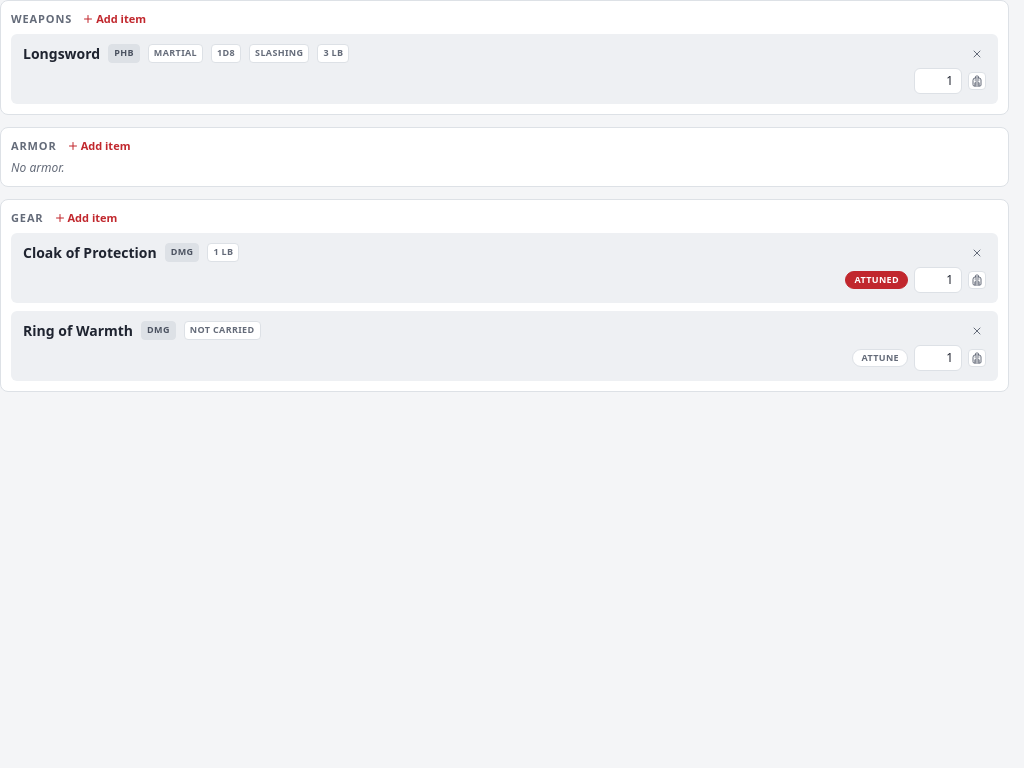
Test: ItemList › adds a magic variant as the pair it names, once its base item is picked
Check: the button "Longsword" is shown, box [23,44,100,64]
Click the button with aria-label "Add item to Weapons".
click(114, 19)  # box [78,7,150,32]
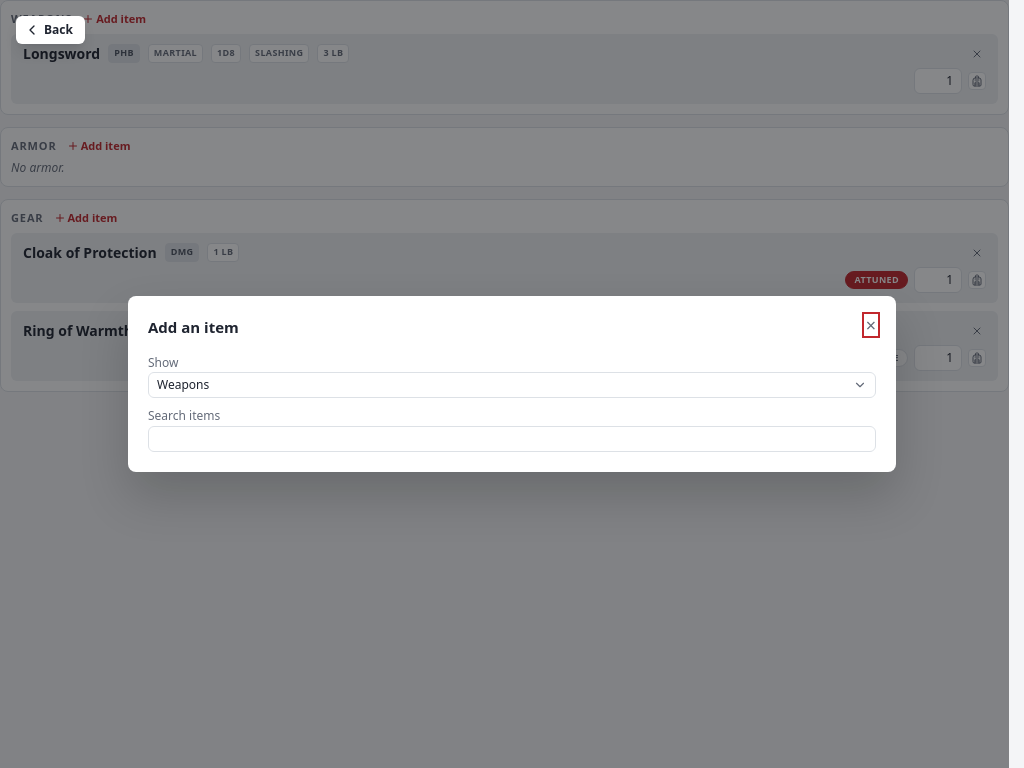
Type "+1" into the dropdown labelled "Search items".
click(512, 439); type("+1")  # box [148,426,876,452]
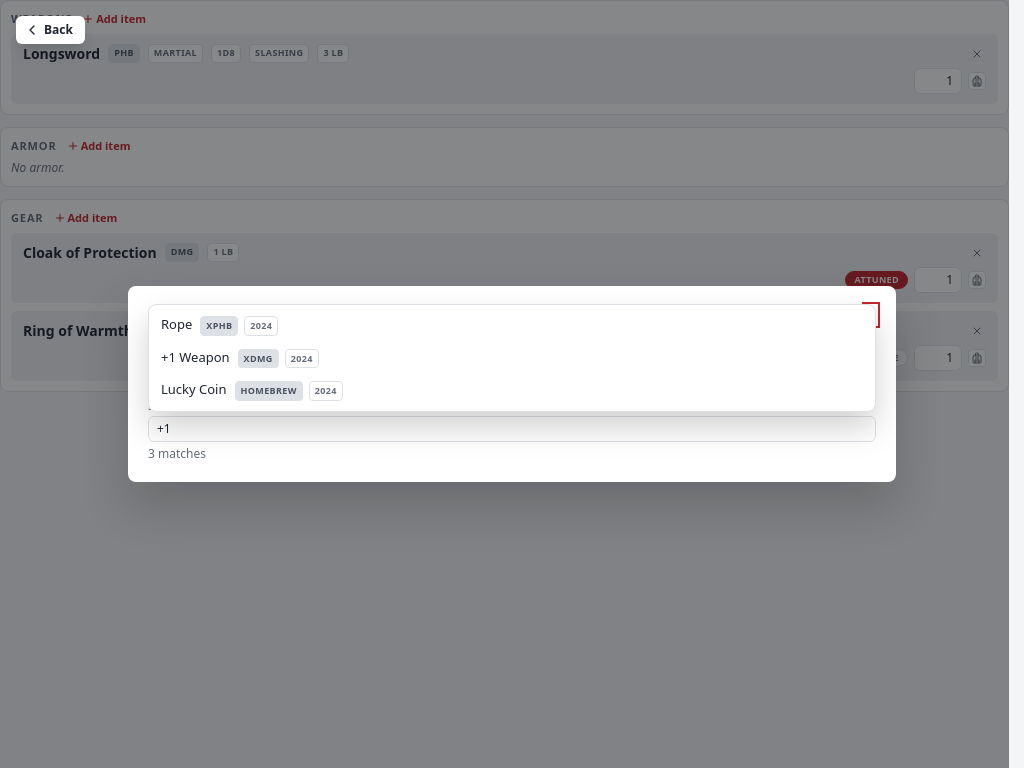
Click the option "+1 Weapon XDMG 2024".
click(240, 358)  # box [161,348,319,368]
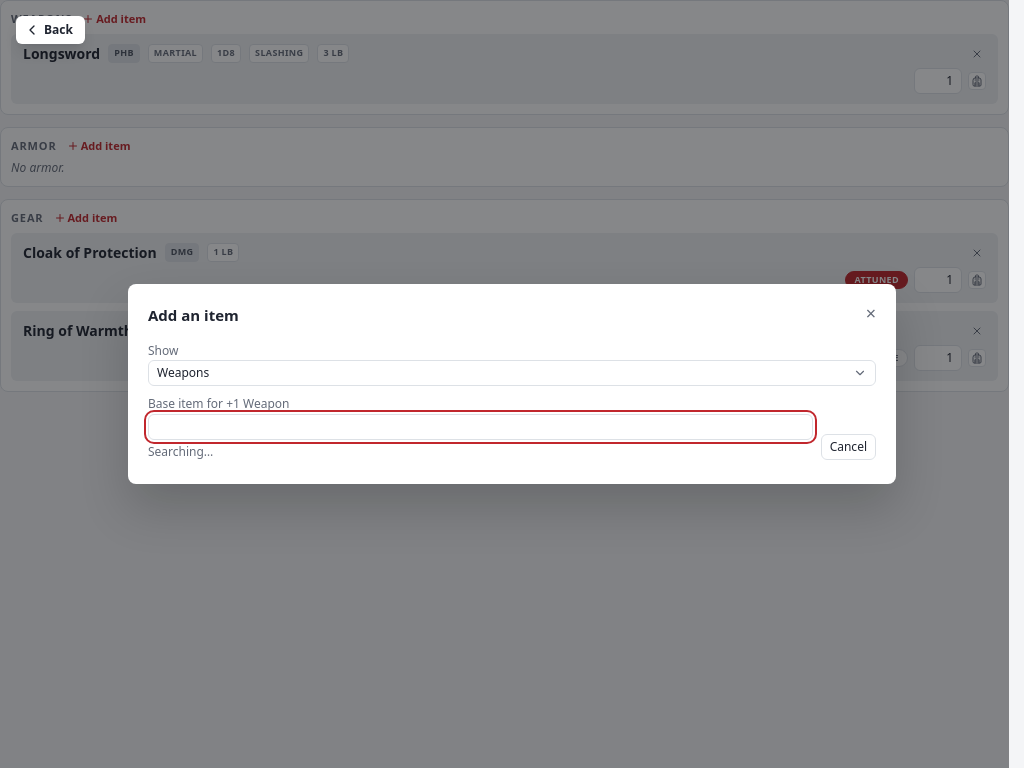
Type "dag" into the dropdown labelled "Base item for +1 Weapon".
click(480, 427); type("dag")  # box [148,414,813,440]
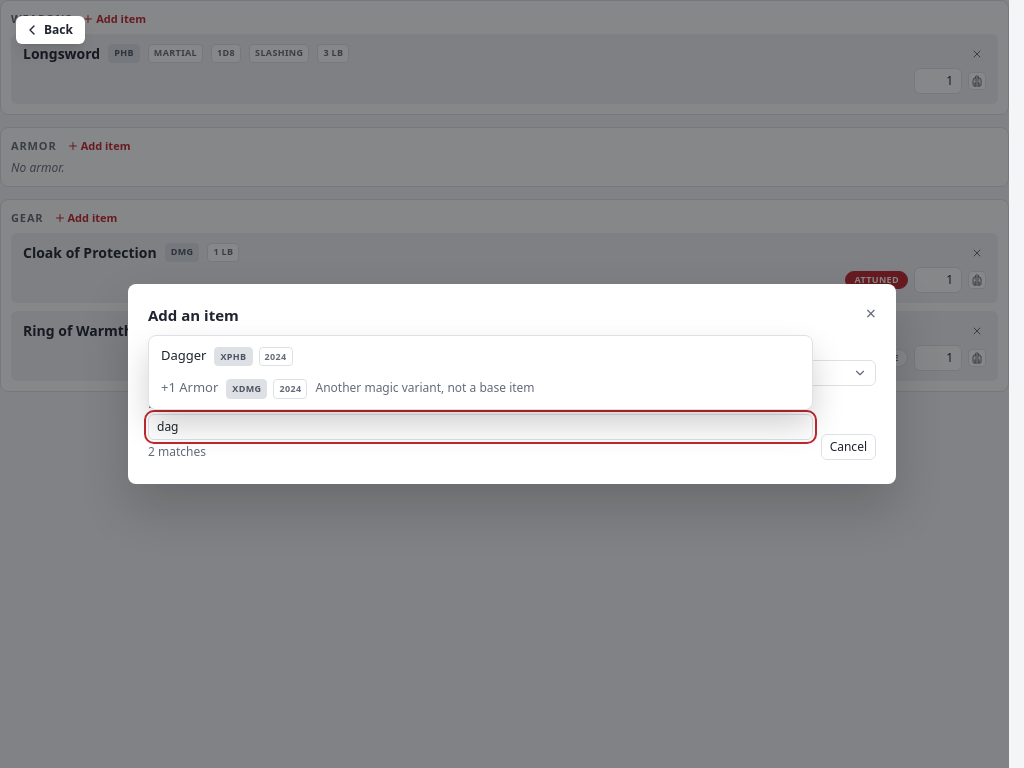
Check: the option "+1 Armor XDMG 2024 Another magic variant, not a base item" is shown, box [161,378,535,399]
Click the option "Dagger XPHB 2024".
click(227, 356)  # box [161,346,293,366]
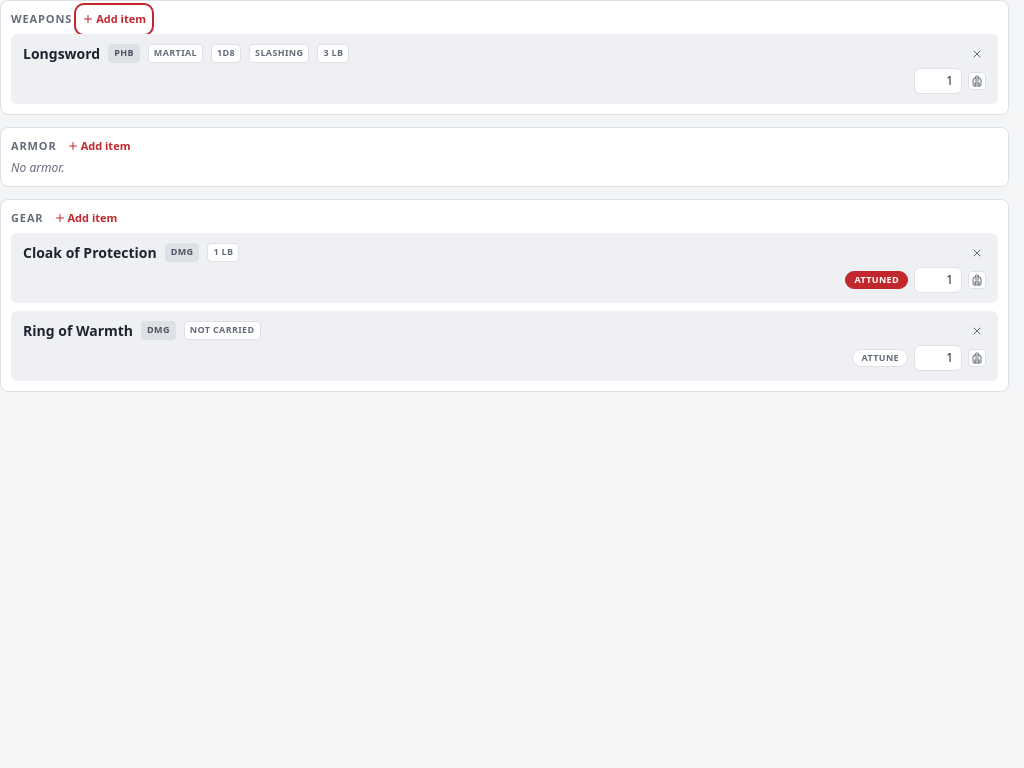
Check: the dialog is gone
